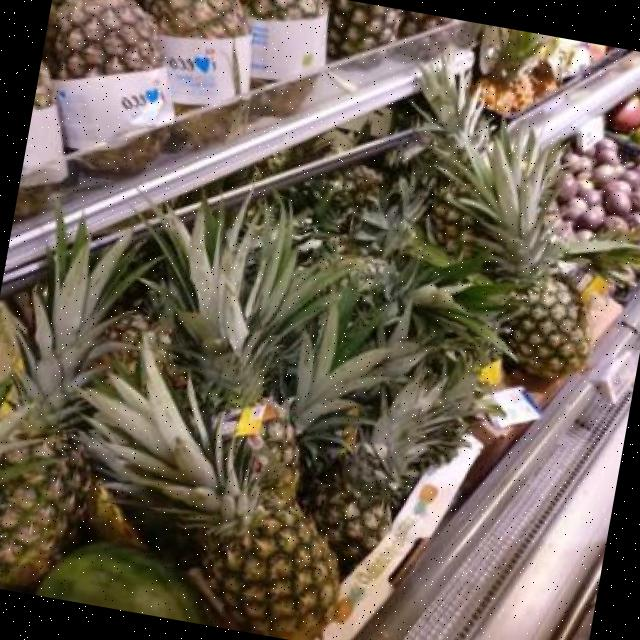pineapple: (84, 340, 336, 639), (423, 70, 590, 379), (0, 227, 134, 588), (163, 205, 319, 502), (301, 382, 447, 575), (43, 0, 161, 78), (475, 27, 546, 115), (245, 0, 323, 79), (328, 0, 401, 57), (149, 0, 248, 39), (426, 197, 473, 257), (399, 10, 452, 38), (530, 60, 558, 98)
